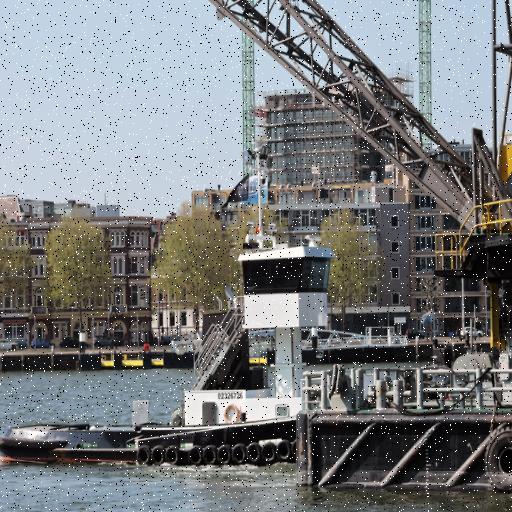tugboat: (1, 234, 511, 478)
